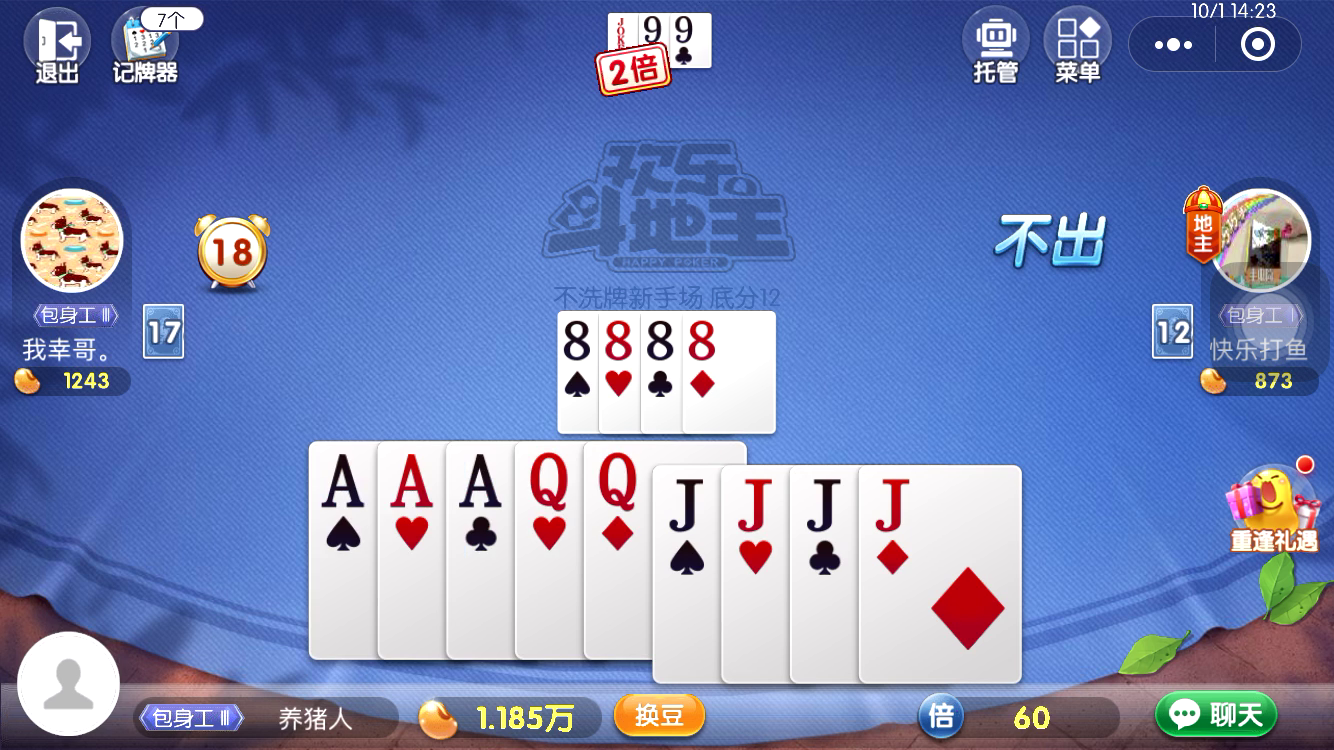A: (379, 450, 442, 517), (313, 448, 373, 516), (454, 447, 511, 517)
J: (861, 468, 925, 538), (657, 468, 712, 541), (726, 469, 781, 536), (797, 471, 849, 539)
JOKER: (609, 14, 632, 51)
Q: (588, 449, 644, 517), (520, 448, 576, 514)
eight: (684, 312, 732, 365), (557, 314, 597, 369), (642, 317, 679, 370), (600, 318, 637, 368)
nine: (670, 14, 707, 45), (638, 13, 667, 49)
